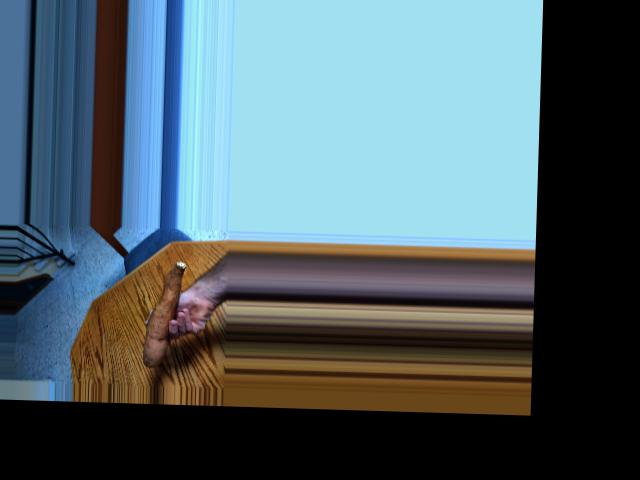sweet_potato: (136, 263, 187, 363)
